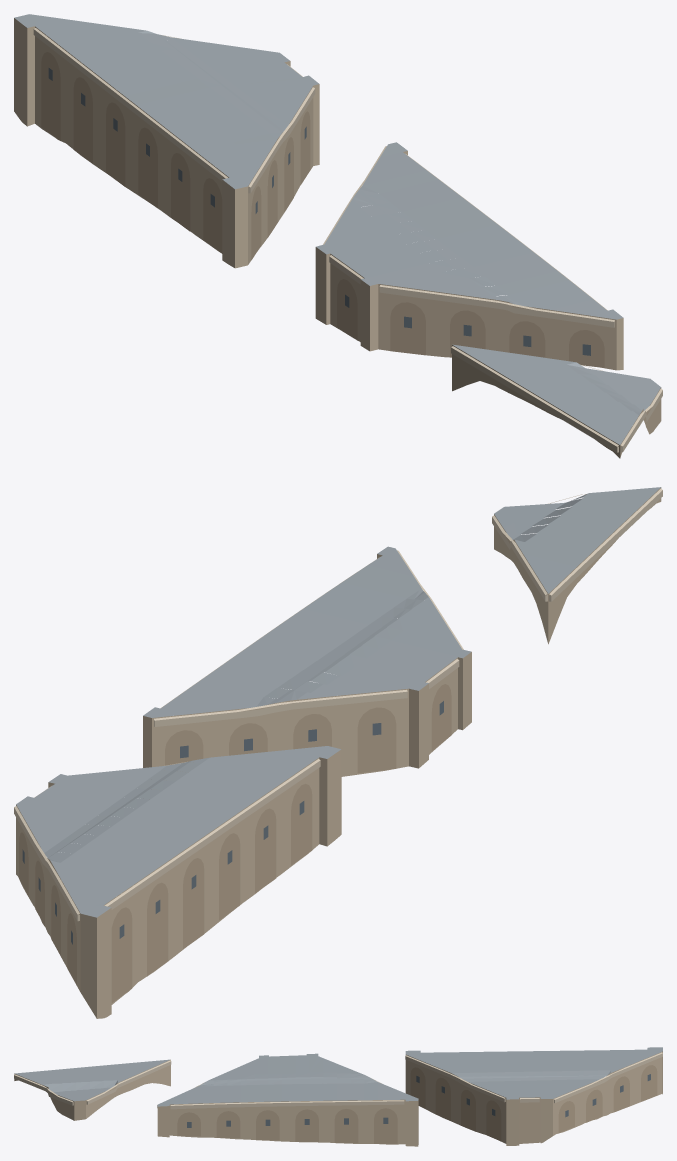
Rendered from nyc-brooklyn-bridge-brooklyn-approach.glb.
3 renders of one model, top to bottom at view 1: azimuth 30°, elevation 25°; view 2: azimuth 150°, elevation 25°; view 3: azimuth 270°, elevation 25°, orthographic. The views are drawn at different scales.
Visible parts, largest first — view 1: Brooklyn Bridge, Brooklyn approach; view 2: Brooklyn Bridge, Brooklyn approach; view 3: Brooklyn Bridge, Brooklyn approach.
Part boxes in pixels (x1,y1,x2,y2): Brooklyn Bridge, Brooklyn approach: [14, 14, 662, 458]; Brooklyn Bridge, Brooklyn approach: [14, 487, 662, 1018]; Brooklyn Bridge, Brooklyn approach: [14, 1047, 662, 1146].
Size of the model in its own units: 33.56 by 18.32 by 189.
